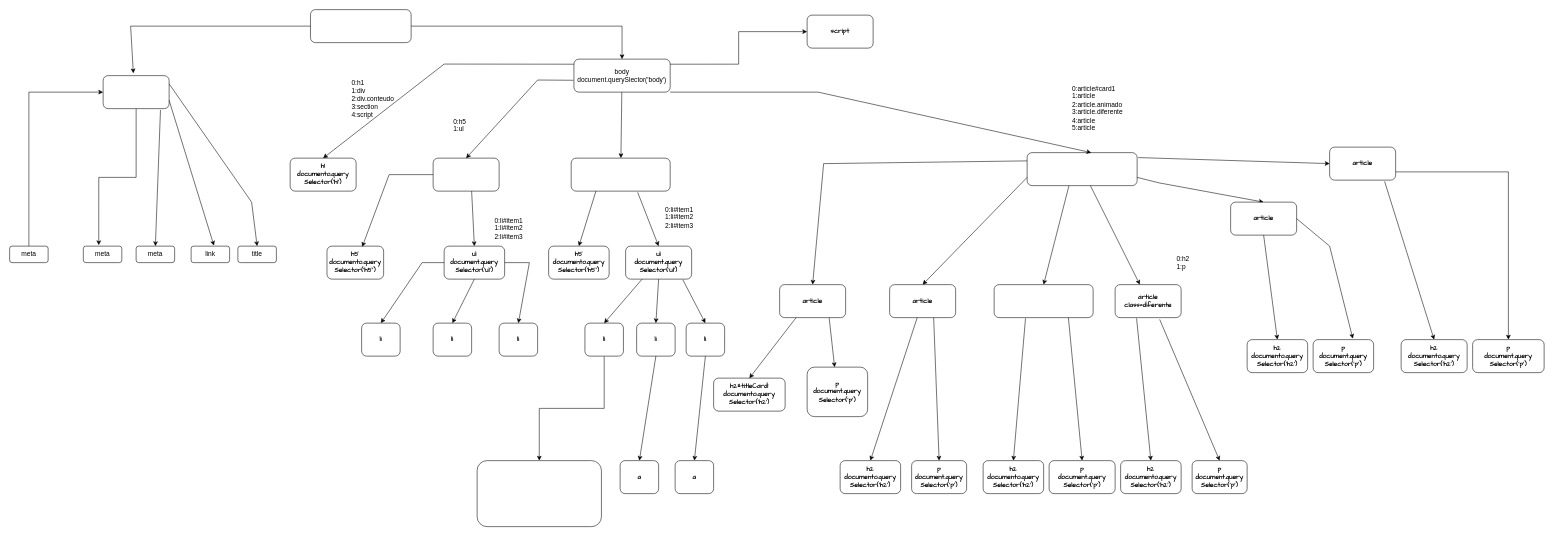
The diagram is 1554 pixels wide and 536 high, and some of its shapes have lost their labels. Each missing label, with the centre of its shape:
a document.querySelector(: point 539,493
article animado getElementByID('article): point 1043,301
div conteudo document.getElementId ('.conteudo'): point 620,174
div document.query Selector('div'): point 466,174
HEAD: point 136,92
HTML document.querySelector("html"): point 360,26
section document.querySelector('section'): point 1082,169
